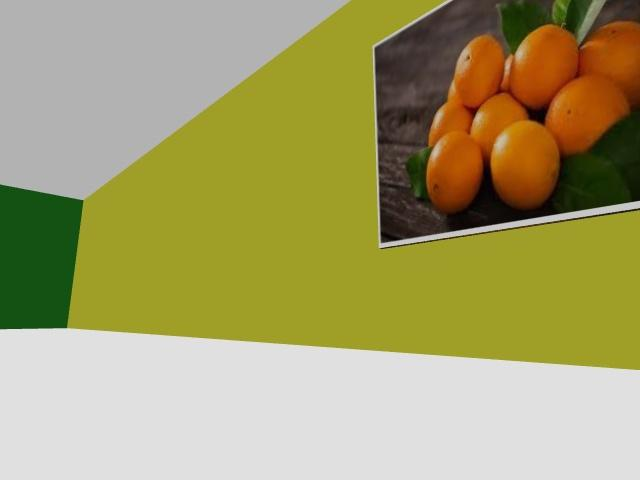orange: (545, 75, 629, 155), (491, 120, 559, 209), (509, 25, 578, 109), (579, 21, 639, 107), (426, 131, 482, 213), (470, 93, 528, 165), (454, 35, 504, 108), (428, 99, 472, 146), (500, 55, 514, 93), (447, 81, 460, 102)
